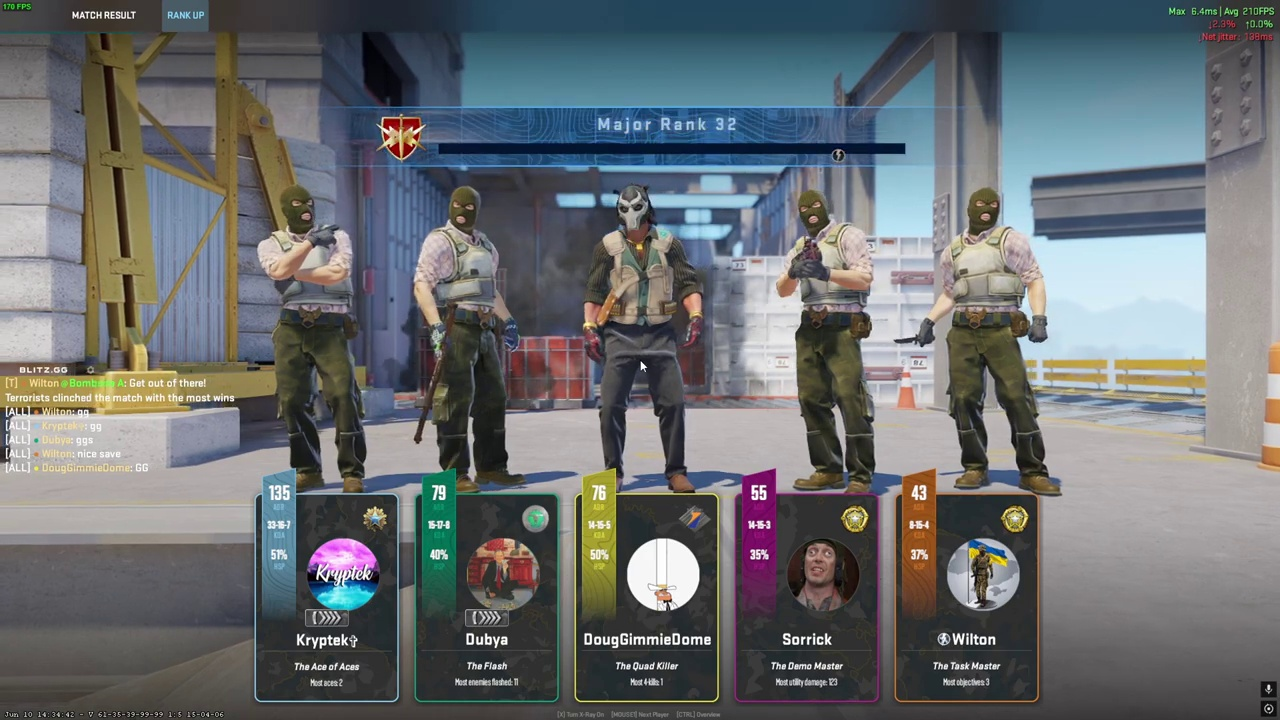Terrorist: (936, 186, 1050, 494), (590, 184, 697, 489), (261, 185, 365, 495), (411, 186, 516, 488), (786, 189, 877, 491)
